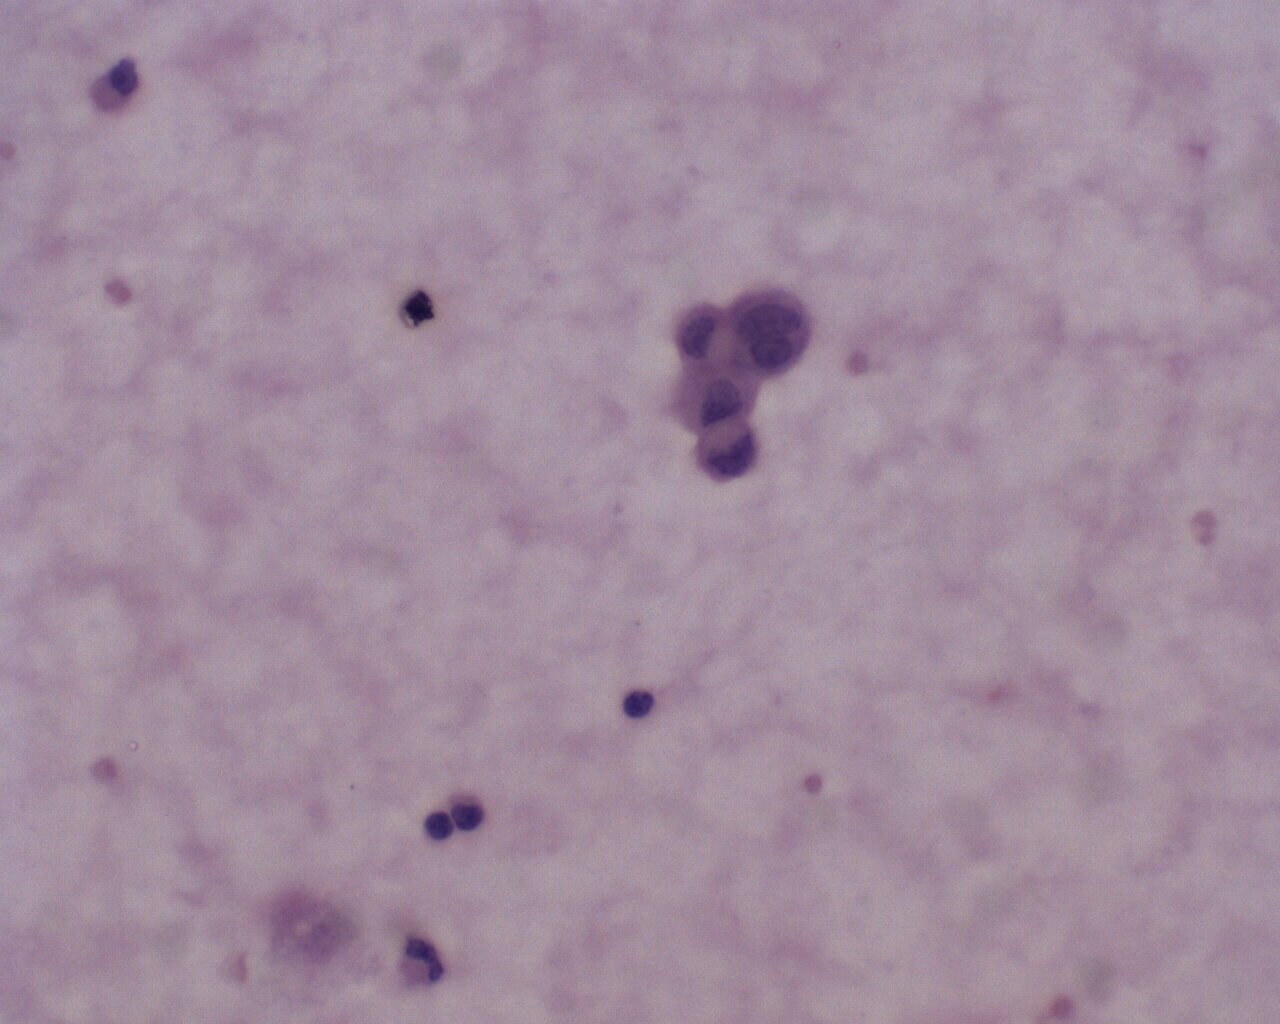ab: (732, 286, 815, 375), (677, 365, 766, 426), (693, 420, 760, 486)
lymph: (448, 793, 487, 836), (620, 685, 659, 721), (421, 805, 455, 846)
